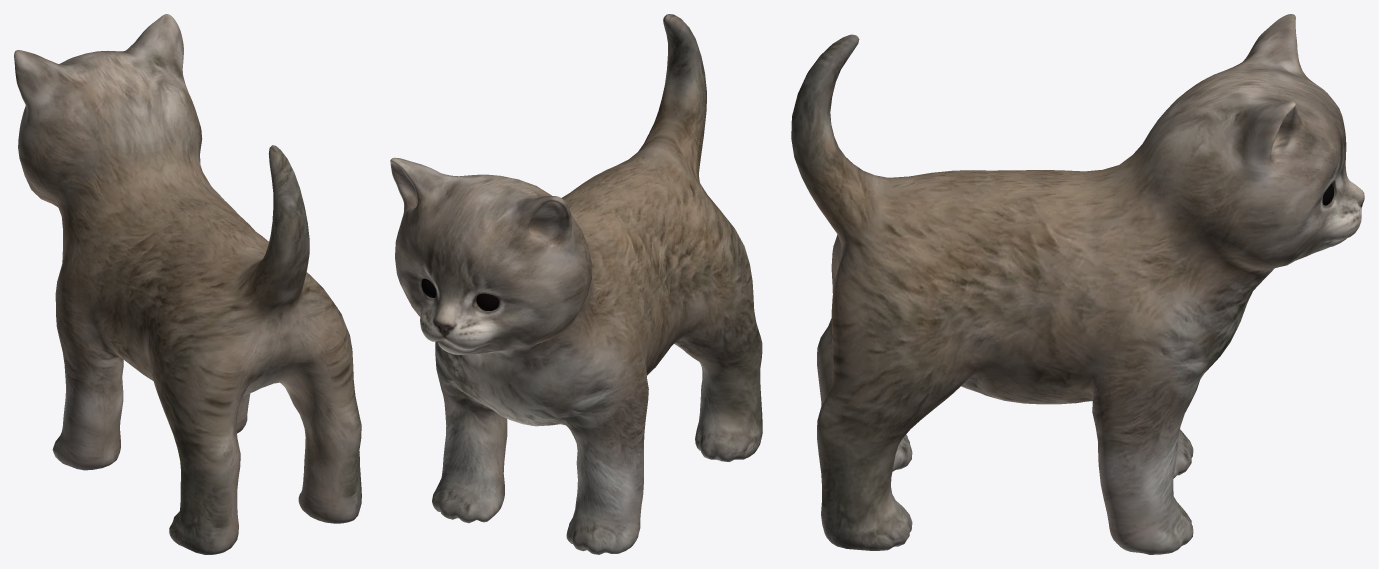
File: kitten-transformed.glb
3 renders of one model, left to right at view 1: azimuth 30°, elevation 25°; view 2: azimuth 150°, elevation 25°; view 3: azimuth 270°, elevation 25°, orthographic. The views are drawn at different scales.
Visible parts, largest first — view 1: Kitten; view 2: Kitten; view 3: Kitten.
Boxes of the visible parts, x1,y1,x2,y2 form: Kitten: (14,14,361,554); Kitten: (390,14,762,554); Kitten: (791,14,1364,554).
Size of the model in its own units: 5.34 by 10.87 by 11.97.
2 materials, 2 textured.
